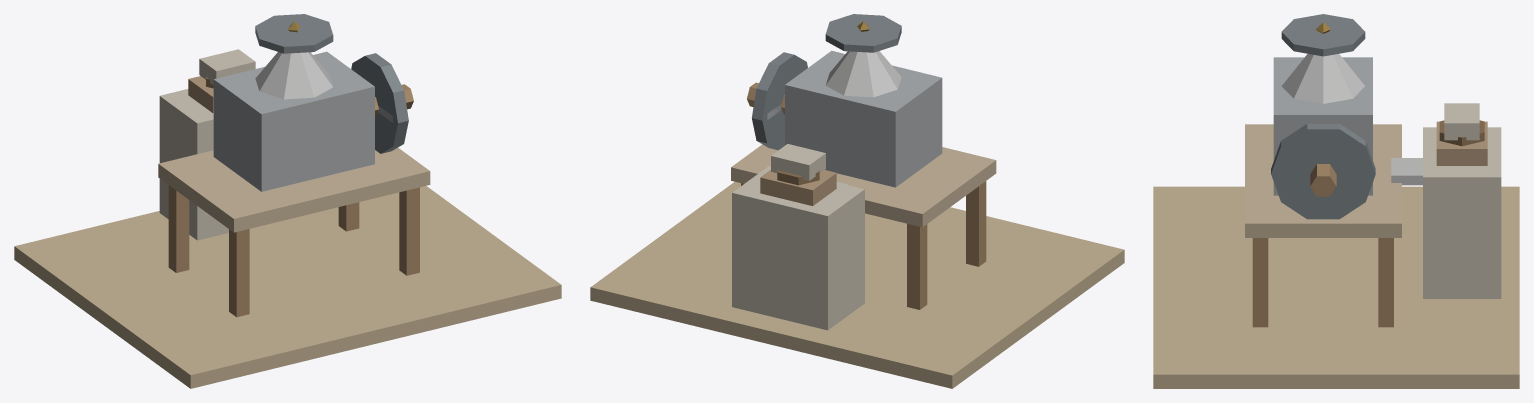
The model's file is cafe_estacion_05_trilla.glb.
3 renders of one model, left to right at view 1: azimuth 30°, elevation 25°; view 2: azimuth 150°, elevation 25°; view 3: azimuth 270°, elevation 25°, orthographic. The views are drawn at different scales.
Visible parts, largest first — view 1: model; view 2: model; view 3: model.
Part boxes in pixels (x1,y1,x2,y2): model: [14, 14, 561, 388]; model: [590, 14, 1124, 388]; model: [1153, 14, 1519, 388].
Size of the model in its own units: 1.7 by 1.15 by 1.4.
